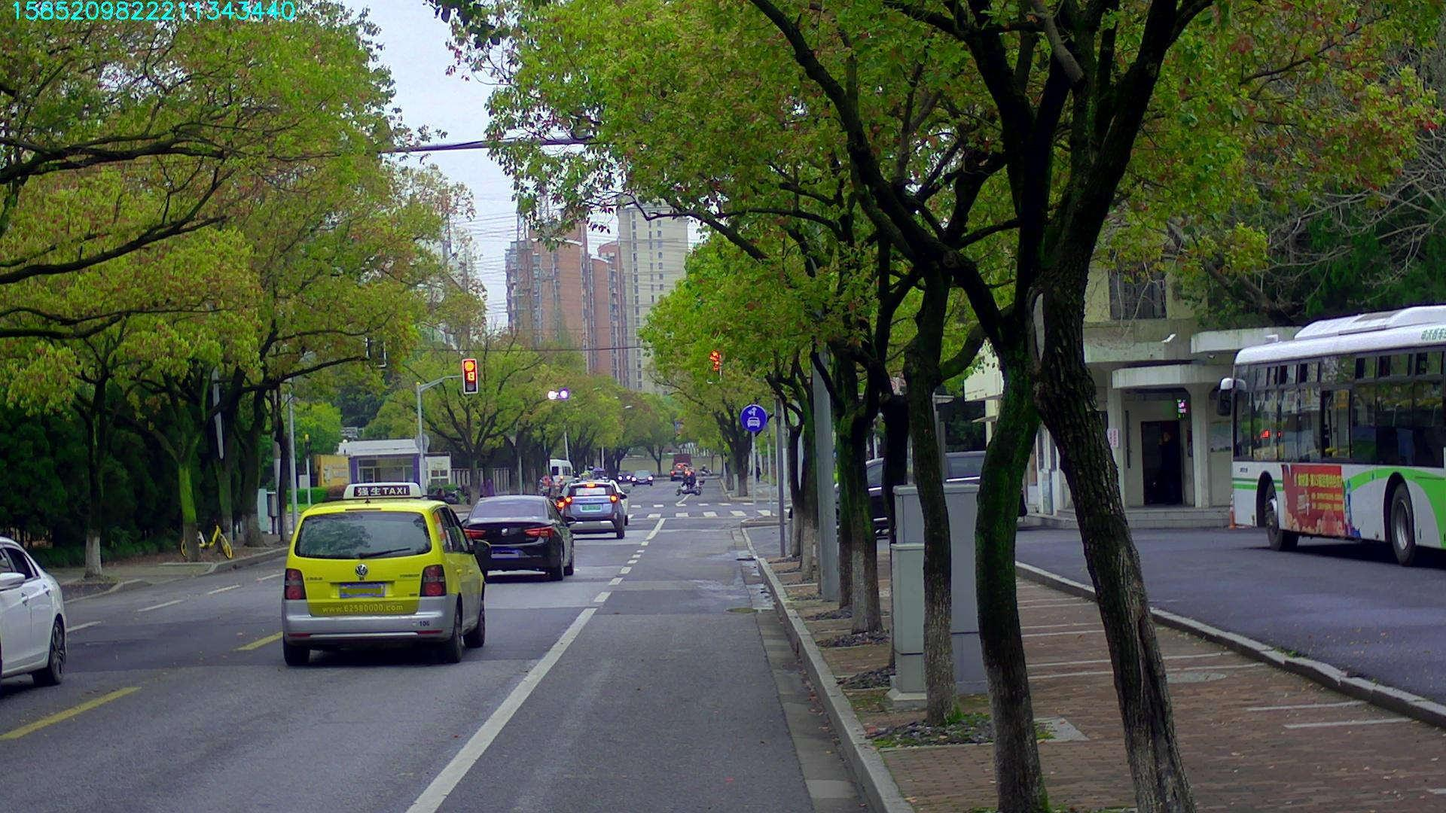red: (463, 358, 476, 392), (707, 351, 721, 380)
